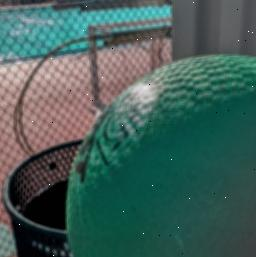algae: (67, 50, 256, 257)
